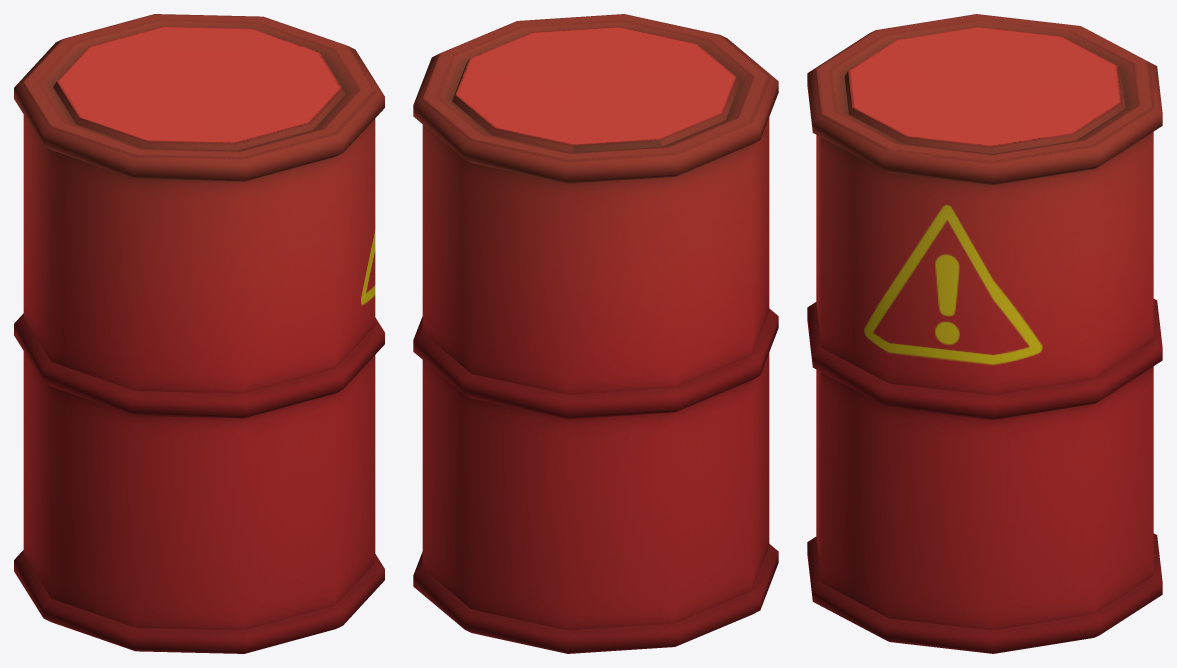
Rendered from red_barrel.fbx.
3 views of the same model, side by side, from view 1: azimuth 30°, elevation 25°; view 2: azimuth 150°, elevation 25°; view 3: azimuth 270°, elevation 25° (orthographic).
Visible parts, largest first — view 1: red_barrel; view 2: red_barrel; view 3: red_barrel.
Boxes of the visible parts, left/top/right/bottom form: red_barrel: left=14, top=14, right=384, bottom=653; red_barrel: left=413, top=14, right=778, bottom=653; red_barrel: left=807, top=14, right=1162, bottom=653.
Size of the model in its own units: 65.78 by 97.56 by 63.54.
1 material, 1 textured.
